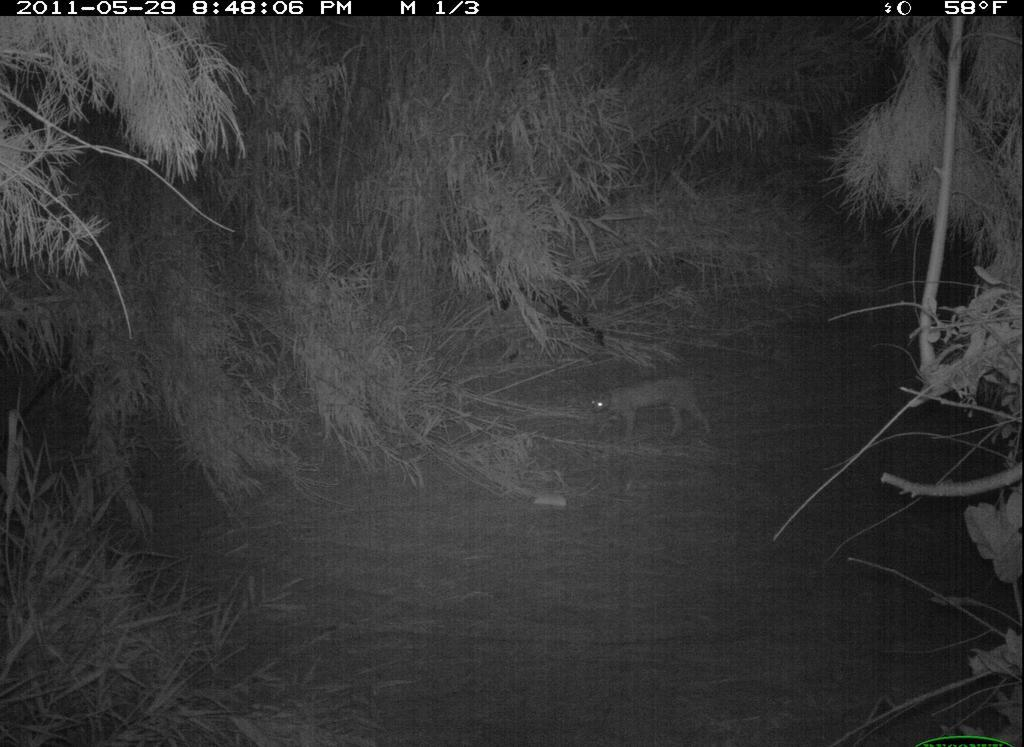bobcat: (583, 368, 722, 452)
